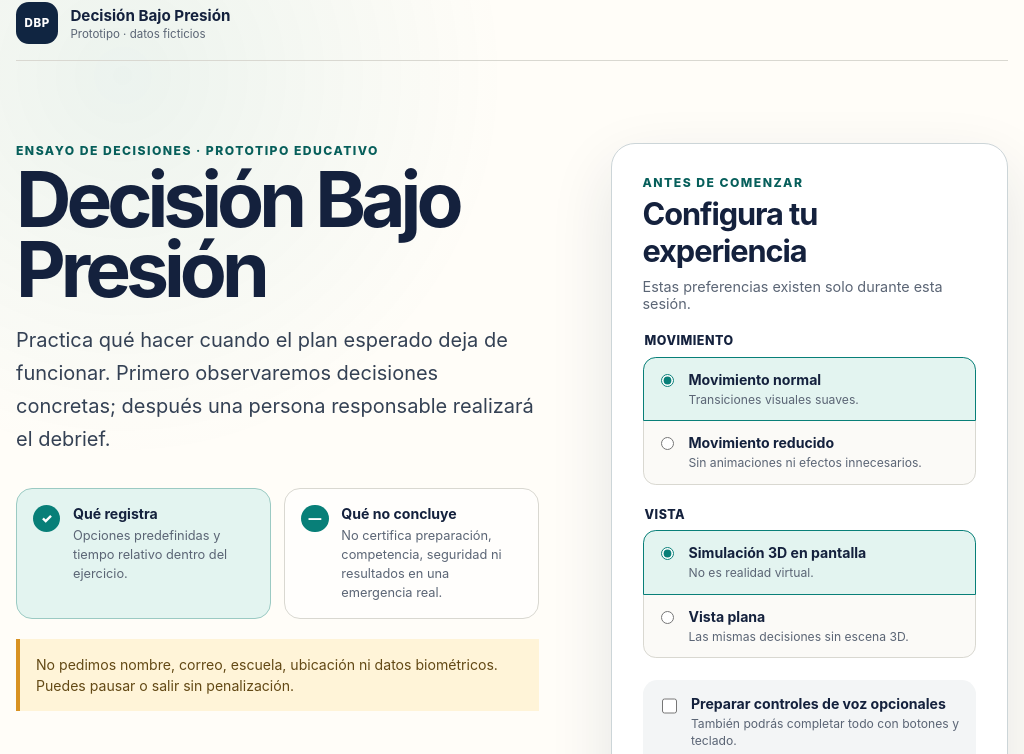
Scenario: Feature 2 safe start › changes in-memory preferences without requesting microphone access
The width and height of the screenshot is (1024, 754).
Click the radio button labelled "Movimiento reducido Sin animaciones ni efectos innecesarios." at (668, 444), box [661,438,674,450]
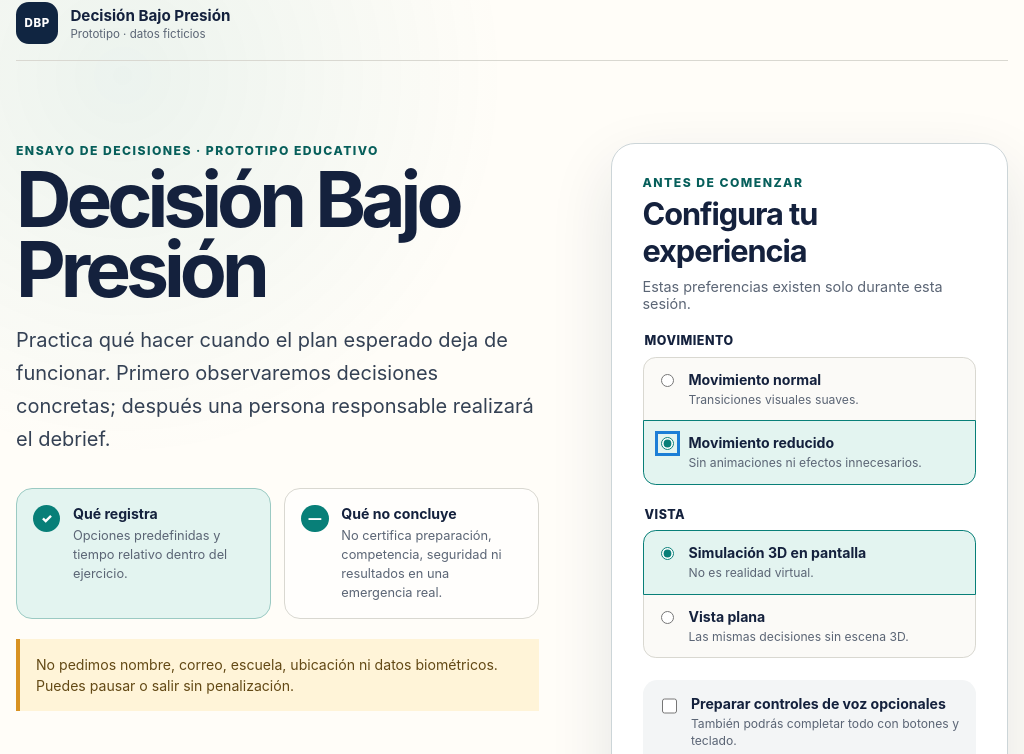
Click the radio button labelled "Vista plana Las mismas decisiones sin escena 3D." at (668, 617), box [661,611,674,624]
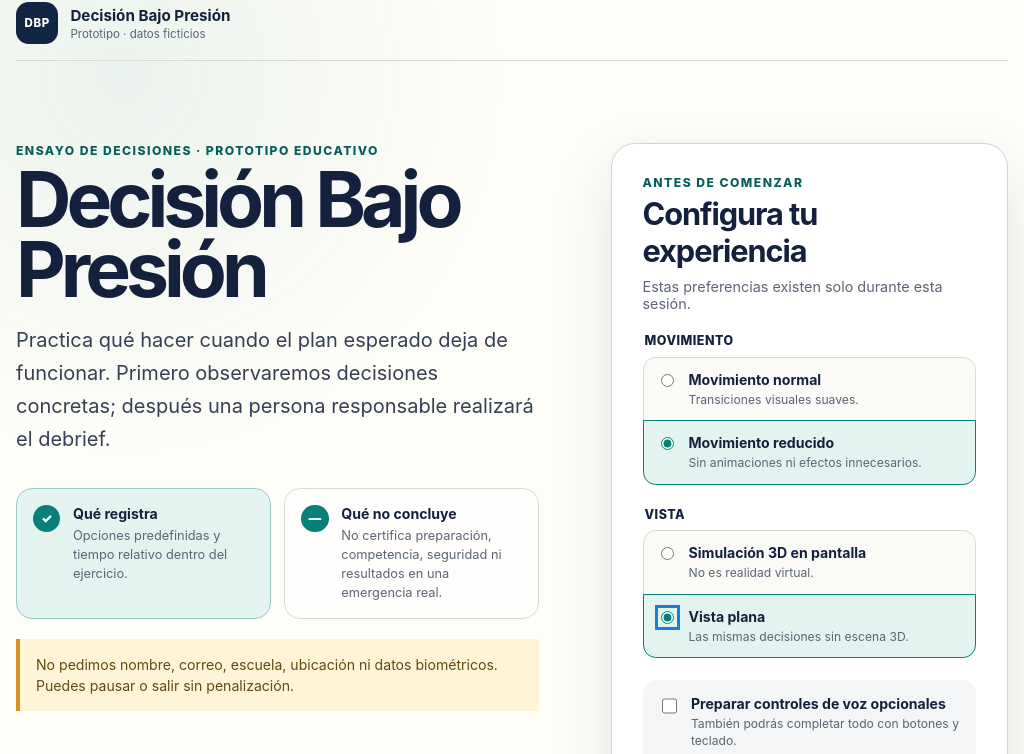
Click the checkbox labelled "Preparar controles de voz opcionales" at (669, 706), box [662,697,677,715]
(page scrolled)
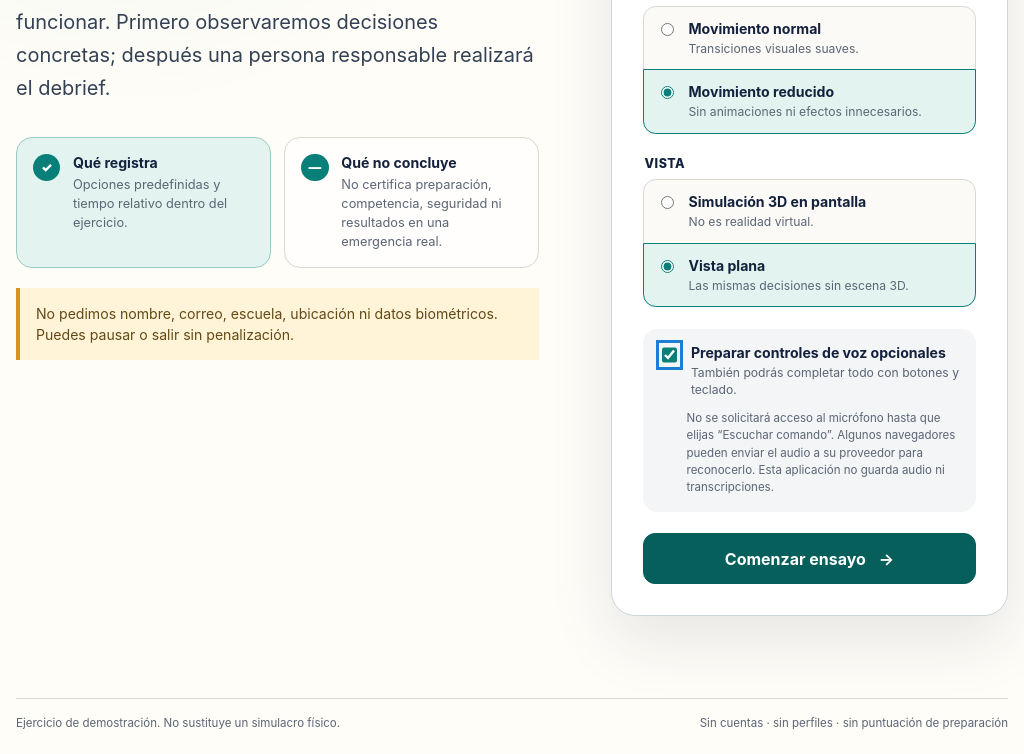
Click the button "Comenzar ensayo →" at (809, 558), box [642,533,976,584]
(page scrolled)
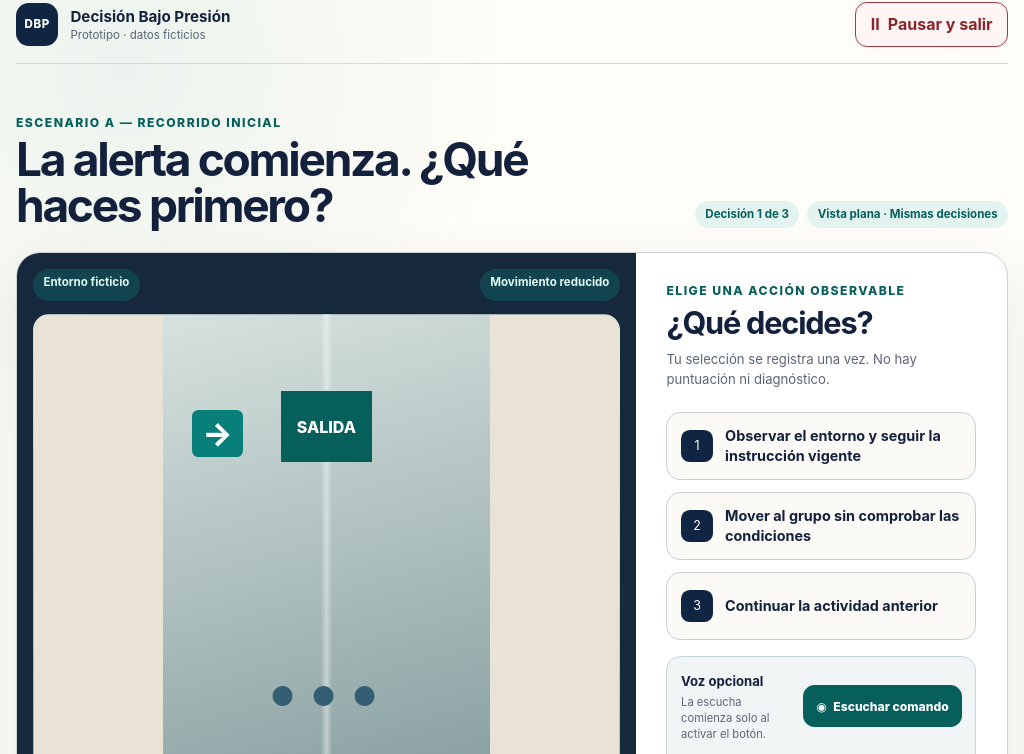
Expected: the text "Movimiento reducido" is shown, [480,269,620,301]
Now the text "Vista plana · Mismas decisiones" is shown, box [807,201,1008,228]
